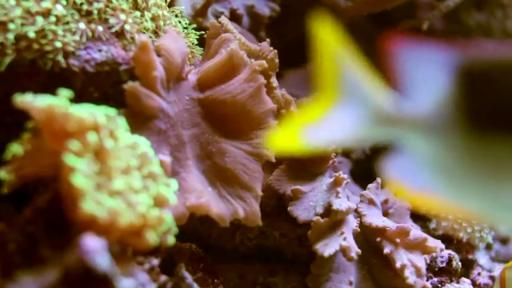Fish: (264, 10, 511, 232), (493, 262, 511, 287)
